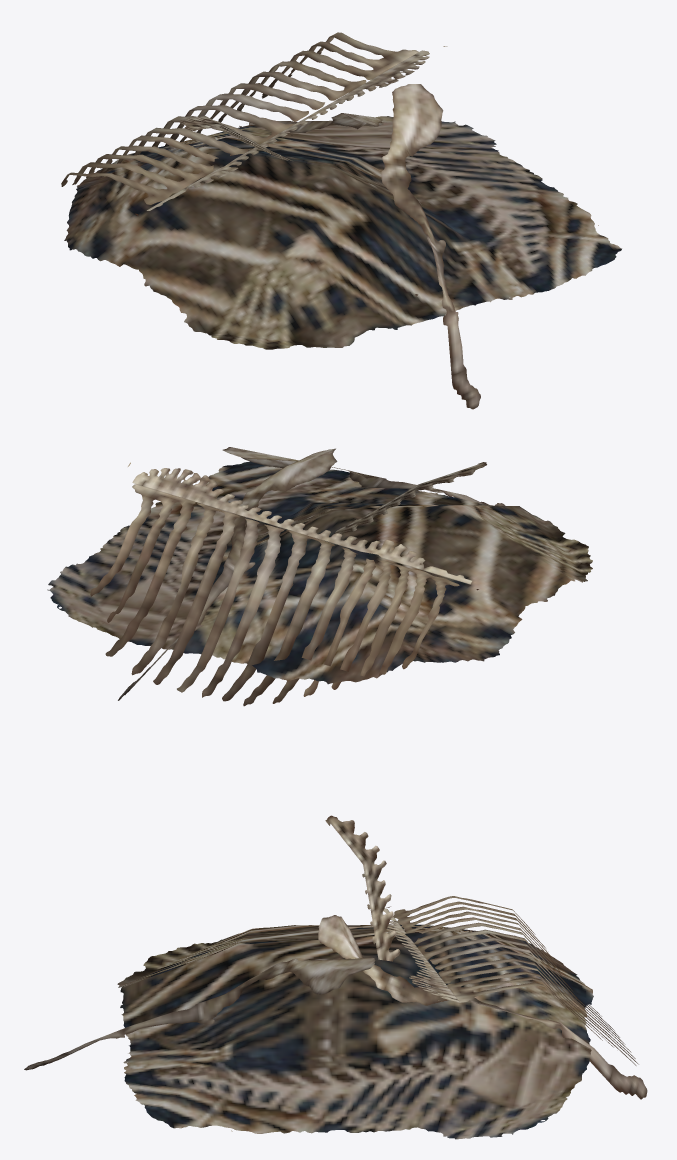
File: gutoudui_fd_60.FBX
3 views of the same model, one above another, from view 1: azimuth 30°, elevation 25°; view 2: azimuth 150°, elevation 25°; view 3: azimuth 270°, elevation 25° (orthographic). The views are drawn at different scales.
Visible parts, largest first — view 1: gutoudui_fd_60; view 2: gutoudui_fd_60; view 3: gutoudui_fd_60.
Boxes of the visible parts, x1=… form: gutoudui_fd_60: x1=61, y1=32, x2=621, y2=409; gutoudui_fd_60: x1=47, y1=447, x2=592, y2=706; gutoudui_fd_60: x1=24, y1=815, x2=647, y2=1139.
Size of what is drawn, in the model's own units: 126 by 55.45 by 156.
